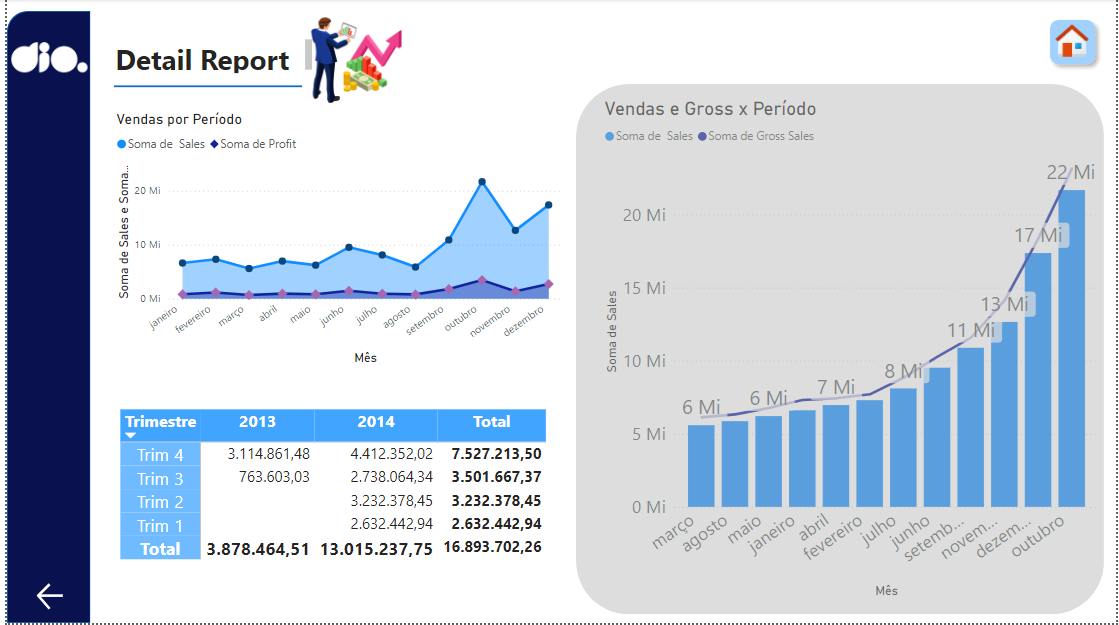

The page's visual inventory and layout, read from the dashboard file:
{"tool":"powerbi","page":{"name":"Report","canvas":[1280,720],"ordinal":2},"visuals":[{"type":"shape","box":[0,13.4,96.4,706.2],"z":0,"group":"g1"},{"type":"shape","box":[123.9,84.6,217.2,33],"z":0,"group":"g4"},{"type":"group","id":"g1","title":"Layout","box":[0,-0.5,511.4,720],"z":500},{"type":"image","title":"logo_dio","box":[0,35.7,98.2,63.2],"z":1000,"group":"g1"},{"type":"textbox","box":[119.9,41.7,237,49.5],"z":1000,"group":"g4"},{"type":"lineClusteredColumnComboChart","title":"Vendas e Gross x Período","fields":{"Category":["financials.Date.Variation.Hierarquia de datas.Mês"],"Y":["Sum(financials. Sales)"],"Y2":["Sum(financials.Gross Sales)"]},"box":[684.2,114.3,580.6,582.1],"z":1000},{"type":"image","box":[322.6,-0.5,188.8,141.2],"z":2000,"group":"g1"},{"type":"group","id":"g2","title":"Detalhes venda x profit","box":[120.1,128.6,528.4,553.1],"z":2000},{"type":"shape","box":[120.1,443.5,528.4,238.2],"z":2000,"group":"g2"},{"type":"areaChart","title":"Vendas por Período","fields":{"Category":["financials.Date.Variation.Hierarquia de datas.Trimestre","financials.Date.Variation.Hierarquia de datas.Mês"],"Y":["Sum(financials. Sales)","Sum(financials.Profit)"]},"box":[121,128.6,524.2,298.7],"z":3000,"group":"g2"},{"type":"pivotTable","fields":{"Columns":["financials.Date.Variation.Hierarquia de datas.Ano"],"Rows":["financials.Date.Variation.Hierarquia de datas.Trimestre"],"Values":["Sum(financials.Profit)"]},"box":[126,468.5,509.5,189.9],"z":4000,"group":"g2"},{"type":"actionButton","box":[29.9,669.3,40.4,40.4],"z":5000},{"type":"group","id":"g3","title":"Botão home","box":[1194.2,15,70.4,69.2],"z":6000},{"type":"group","id":"g4","title":"Title report","box":[119.9,41.7,237,75.9],"z":7000},{"type":"shape","box":[656.3,97.7,609.4,612],"z":7001},{"type":"actionButton","title":"Home Page","box":[1194.2,15,70.4,69.2],"z":9000,"group":"g3"},{"type":"textbox","box":[1207,34.1,47.4,34.6],"z":9500,"group":"g3"}]}

Visuals, with their boxes in screenshot pixels (x1, y1, x2, y2), scaled from the page's 1280x720 canvas onto the 1119x625 screenshot:
shape: box=[0, 12, 84, 624]
shape: box=[108, 73, 298, 102]
"Layout" group: box=[0, 0, 447, 624]
"logo_dio" image: box=[0, 31, 86, 86]
textbox: box=[105, 36, 312, 79]
"Vendas e Gross x Período" lineClusteredColumnComboChart: box=[598, 99, 1106, 605]
image: box=[282, 0, 447, 122]
"Detalhes venda x profit" group: box=[105, 112, 567, 592]
shape: box=[105, 385, 567, 592]
"Vendas por Período" areaChart: box=[106, 112, 564, 371]
pivotTable - financials.Date.Variation.Hierarquia de datas.Ano x financials.Date.Variation.Hierarquia de datas.Trimestre: box=[110, 407, 556, 572]
actionButton: box=[26, 581, 61, 616]
"Botão home" group: box=[1044, 13, 1106, 73]
"Title report" group: box=[105, 36, 312, 102]
shape: box=[574, 85, 1106, 616]
"Home Page" actionButton: box=[1044, 13, 1106, 73]
textbox: box=[1055, 30, 1097, 60]
